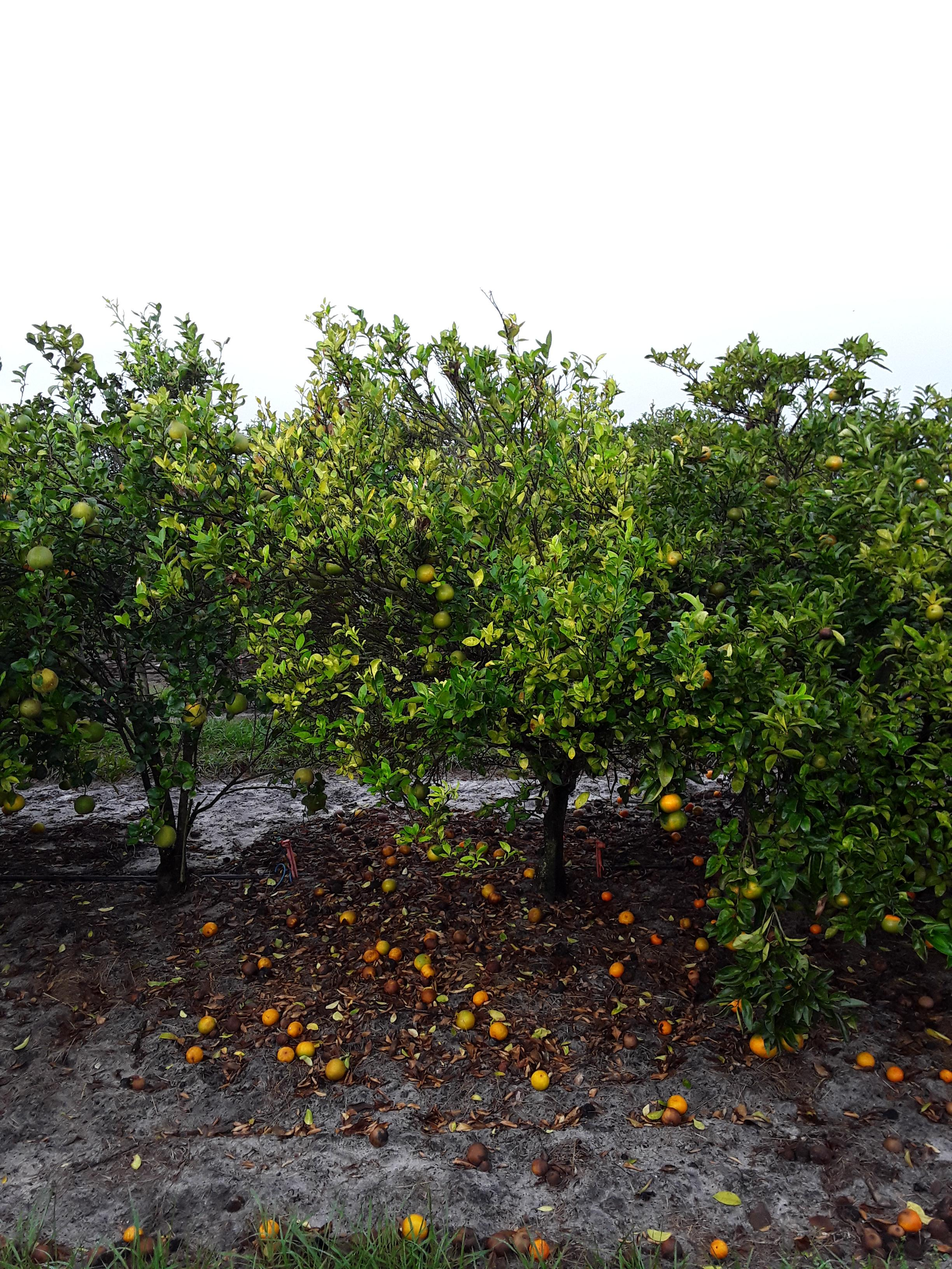fruit_on_ground: (30, 664, 59, 695), (66, 500, 99, 525), (26, 545, 56, 572), (74, 719, 107, 743), (166, 419, 198, 442), (222, 690, 250, 714), (155, 821, 178, 849), (660, 809, 689, 830), (748, 1037, 777, 1058), (251, 484, 280, 503), (24, 759, 49, 781), (228, 432, 250, 456), (658, 793, 684, 813), (1, 793, 27, 813), (414, 562, 436, 585), (434, 580, 456, 603), (409, 781, 432, 802), (822, 453, 846, 473), (72, 796, 96, 816), (663, 549, 685, 570), (924, 601, 946, 622), (293, 766, 314, 787), (431, 609, 453, 629), (287, 556, 310, 575), (324, 556, 347, 575), (56, 708, 79, 727), (19, 699, 38, 720), (809, 751, 830, 770), (126, 414, 148, 432), (337, 579, 357, 598), (697, 669, 715, 690), (13, 415, 35, 432), (187, 703, 204, 725), (448, 648, 468, 666), (742, 883, 760, 903), (828, 387, 849, 404), (709, 578, 730, 595), (835, 887, 852, 908), (912, 476, 932, 493), (308, 572, 328, 589), (818, 533, 840, 548), (21, 405, 39, 423), (423, 658, 442, 675), (886, 912, 903, 931), (726, 505, 746, 521), (61, 568, 81, 584), (698, 443, 716, 460), (785, 1033, 801, 1051), (816, 626, 836, 640), (730, 995, 744, 1014), (765, 474, 782, 489), (726, 939, 741, 955), (903, 890, 917, 904), (59, 778, 71, 792), (924, 940, 936, 952)
fruit_on_tree: (401, 1215, 431, 1251), (85, 1243, 120, 1267), (485, 1231, 512, 1262), (255, 1212, 281, 1244), (262, 1241, 288, 1268), (898, 1206, 922, 1234), (811, 1143, 837, 1168), (324, 1058, 350, 1082), (527, 1235, 551, 1261), (463, 1140, 486, 1166), (26, 1242, 53, 1264), (887, 1221, 913, 1243), (454, 1006, 477, 1030), (706, 1235, 728, 1260), (662, 1235, 684, 1260), (371, 1125, 392, 1149), (121, 1227, 142, 1251), (862, 1232, 886, 1253), (141, 1234, 161, 1259), (928, 1216, 950, 1238), (528, 1155, 549, 1178), (284, 1018, 304, 1041), (530, 1072, 550, 1095), (196, 1016, 216, 1037), (666, 1094, 685, 1116), (419, 986, 439, 1006), (792, 1140, 812, 1160), (262, 1006, 281, 1027), (487, 1022, 508, 1041), (856, 1049, 875, 1070), (889, 1062, 907, 1084), (129, 1073, 147, 1095), (126, 989, 145, 1009), (413, 953, 434, 971), (660, 1109, 682, 1126), (275, 1046, 293, 1066), (185, 1046, 203, 1066), (129, 883, 151, 899), (240, 958, 259, 976), (483, 959, 502, 977), (380, 877, 400, 894), (450, 929, 470, 946), (470, 990, 490, 1007), (660, 1016, 677, 1036), (623, 1031, 640, 1051), (271, 1033, 292, 1049), (543, 1170, 565, 1185), (479, 881, 497, 899), (419, 962, 437, 980), (361, 963, 379, 981), (381, 978, 399, 996), (607, 961, 624, 980), (386, 946, 406, 962), (427, 846, 445, 863), (526, 906, 542, 925), (361, 949, 380, 965), (421, 929, 441, 944), (781, 1145, 796, 1165), (385, 851, 402, 868), (30, 819, 46, 837), (704, 886, 722, 902), (312, 962, 334, 975), (886, 1134, 901, 1153), (380, 956, 397, 972), (226, 1015, 243, 1031), (201, 921, 216, 939), (918, 996, 937, 1010), (427, 937, 444, 952), (685, 968, 702, 983), (375, 939, 390, 955), (380, 844, 398, 857), (522, 865, 536, 881), (331, 881, 347, 895), (487, 891, 503, 905), (284, 914, 301, 927), (695, 936, 708, 953), (475, 840, 490, 854), (313, 883, 327, 898), (618, 910, 632, 925), (258, 955, 272, 970), (331, 808, 350, 819), (576, 822, 592, 835), (397, 844, 413, 857), (355, 853, 371, 866), (340, 908, 353, 924), (678, 914, 691, 930), (938, 1066, 951, 1082), (351, 808, 368, 820), (361, 832, 375, 846), (809, 922, 823, 936), (900, 994, 913, 1009), (669, 826, 681, 842), (493, 848, 508, 860), (648, 931, 660, 946), (944, 1202, 952, 1224), (444, 828, 458, 840), (872, 961, 888, 971), (345, 949, 359, 960), (683, 802, 698, 812), (378, 813, 393, 823), (691, 898, 706, 908), (693, 807, 705, 819), (691, 853, 702, 866), (335, 822, 349, 832), (600, 892, 610, 906), (945, 1097, 952, 1117), (706, 768, 717, 780), (363, 870, 374, 882), (617, 807, 628, 818), (343, 827, 355, 837), (573, 809, 582, 818), (368, 840, 377, 849), (459, 840, 469, 848), (714, 788, 721, 797), (709, 919, 716, 926), (616, 798, 622, 802)
